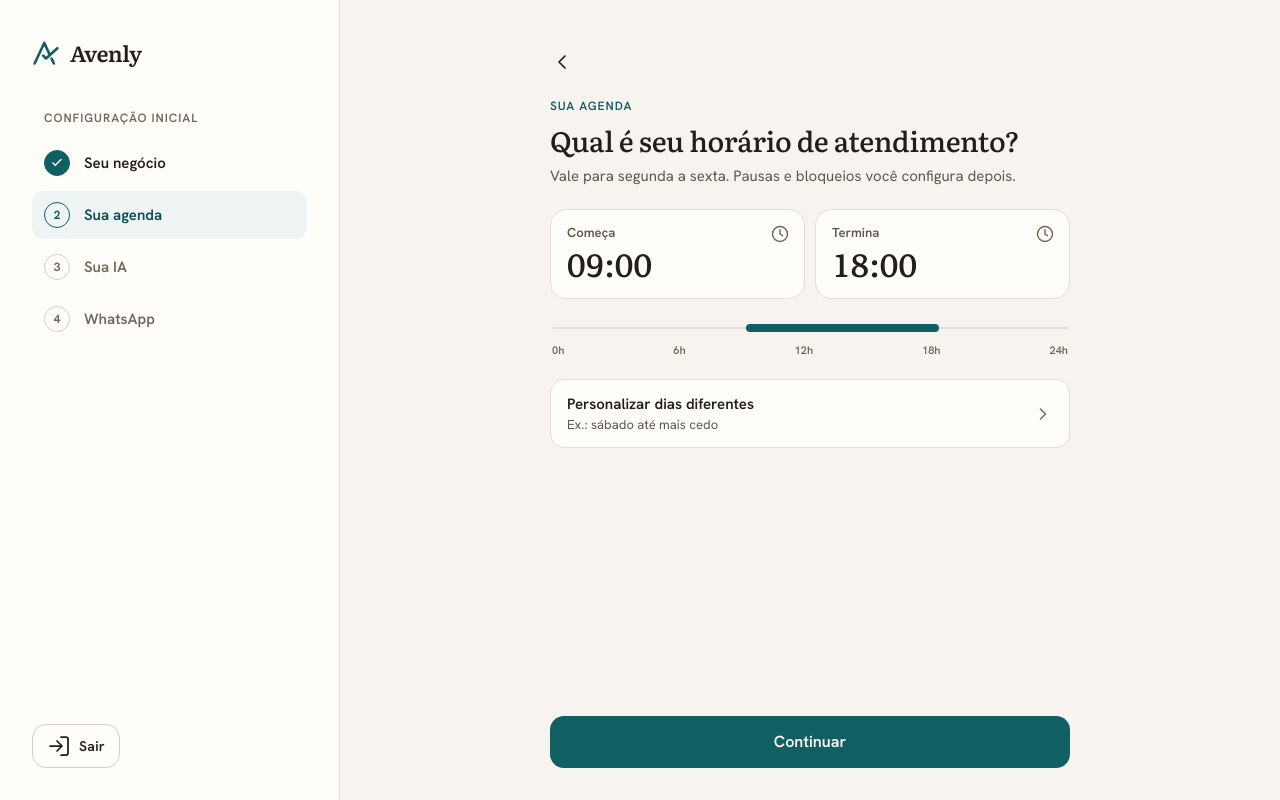
Test: abrir e voltar: a tela por dia é da mesma etapa › Personalizar dias diferentes abre Horários por dia com o texto do quadro, sem navegar
Expected: the heading "Qual é seu horário de atendimento?" is shown, [550,124,1070,158]
Click the button "Personalizar dias diferentes" at (660, 404), box [550,379,1070,448]
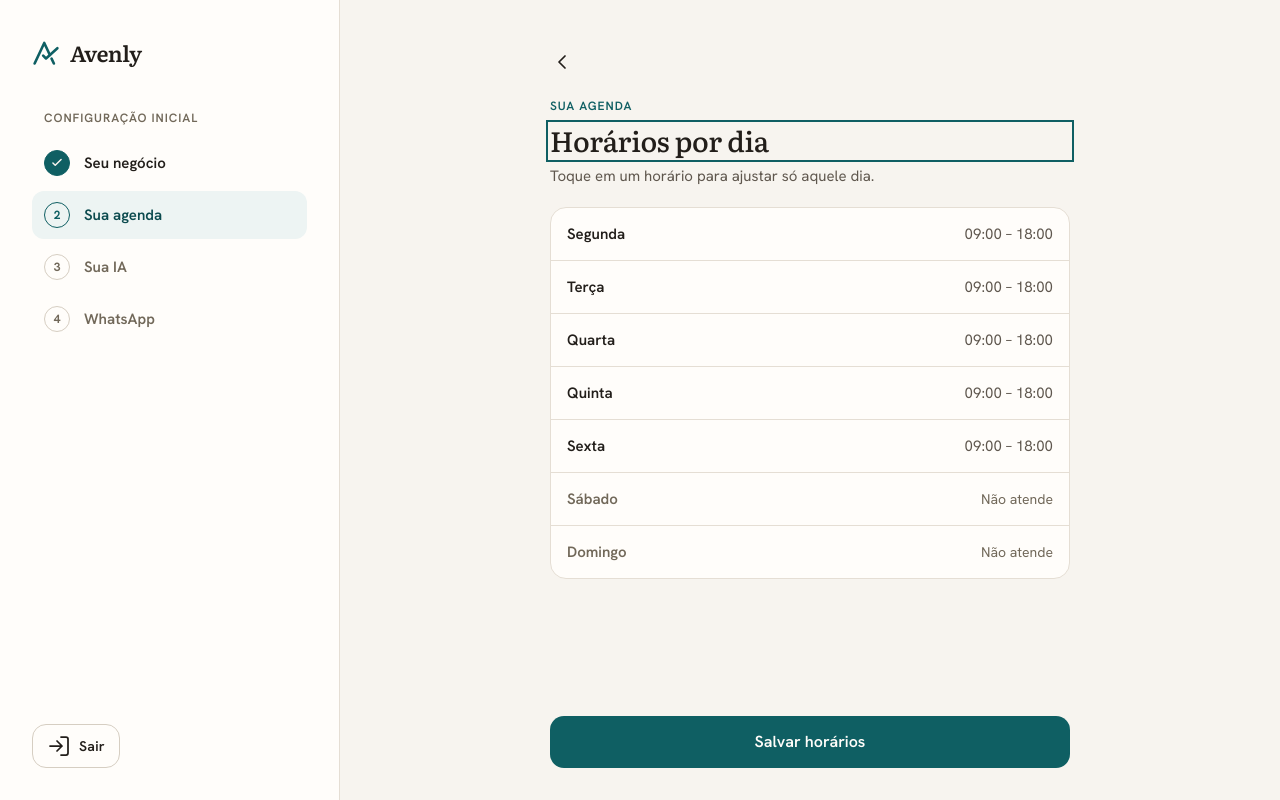
Result: the heading "Horários por dia" is shown at [550,119,769,161]
Result: the text "Toque em um horário para ajustar só aquele dia." is shown at [550,166,874,186]
Result: the text labelled "Começa" is gone
